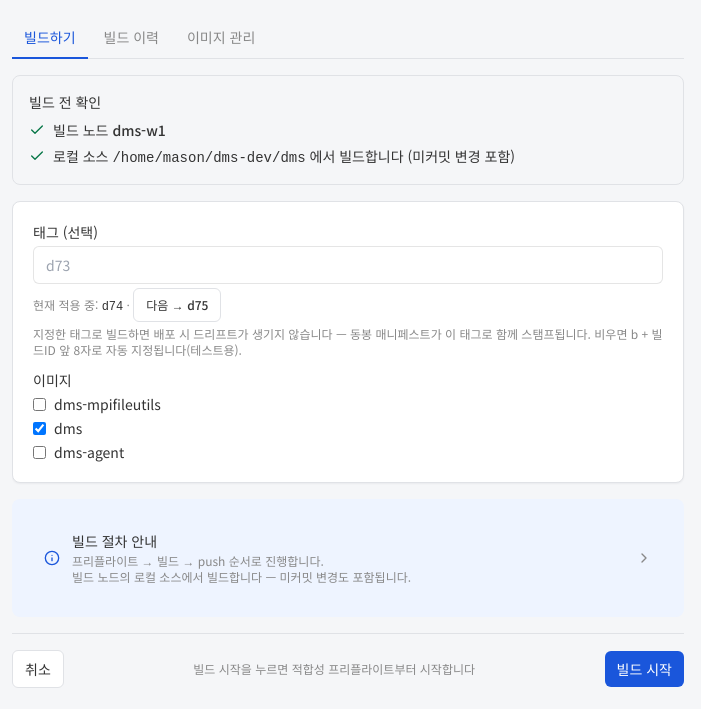
Test case: BuildForm — 빌드하기(기본 하위 페이지) › dms-agent 만 고르면 경고하되 제출은 막지 않는다(레지스트리에 이미 있을 수 있다)
Click the checkbox labelled "dms" at (40, 428), box [33,422,46,434]
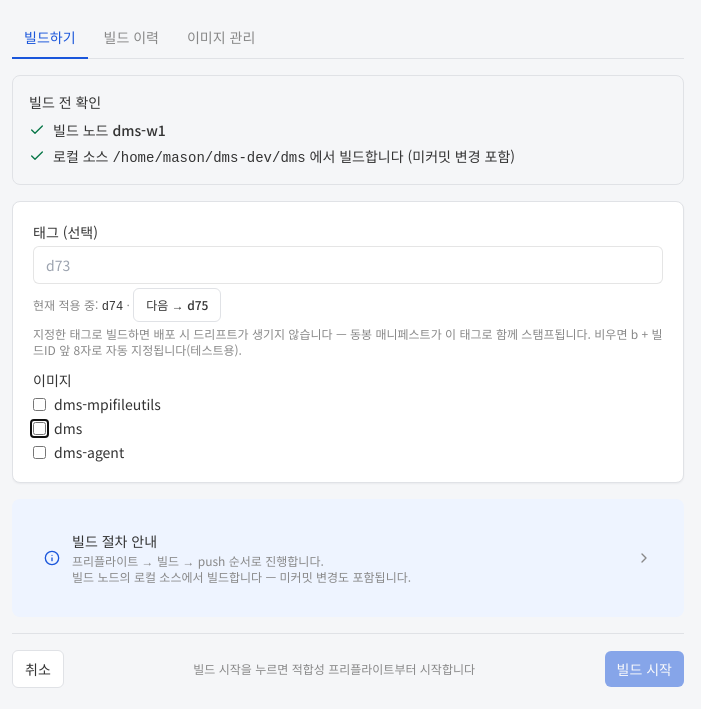
Click the checkbox labelled "dms-agent" at (40, 452), box [33,446,46,458]
(page scrolled)
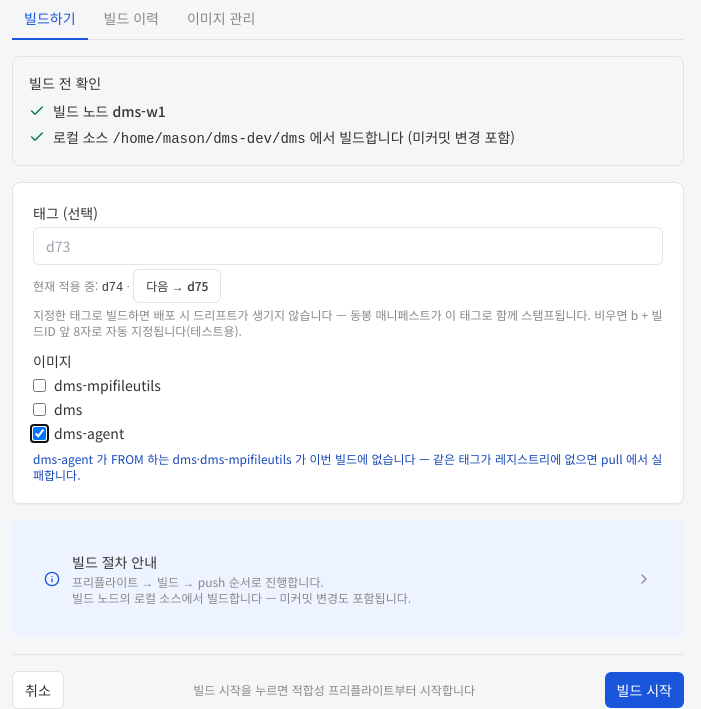
Expected: the text "이번 빌드에 없습니다" is shown, [33,450,662,483]
Expected: the button "빌드 시작" is enabled, [604,672,684,708]
